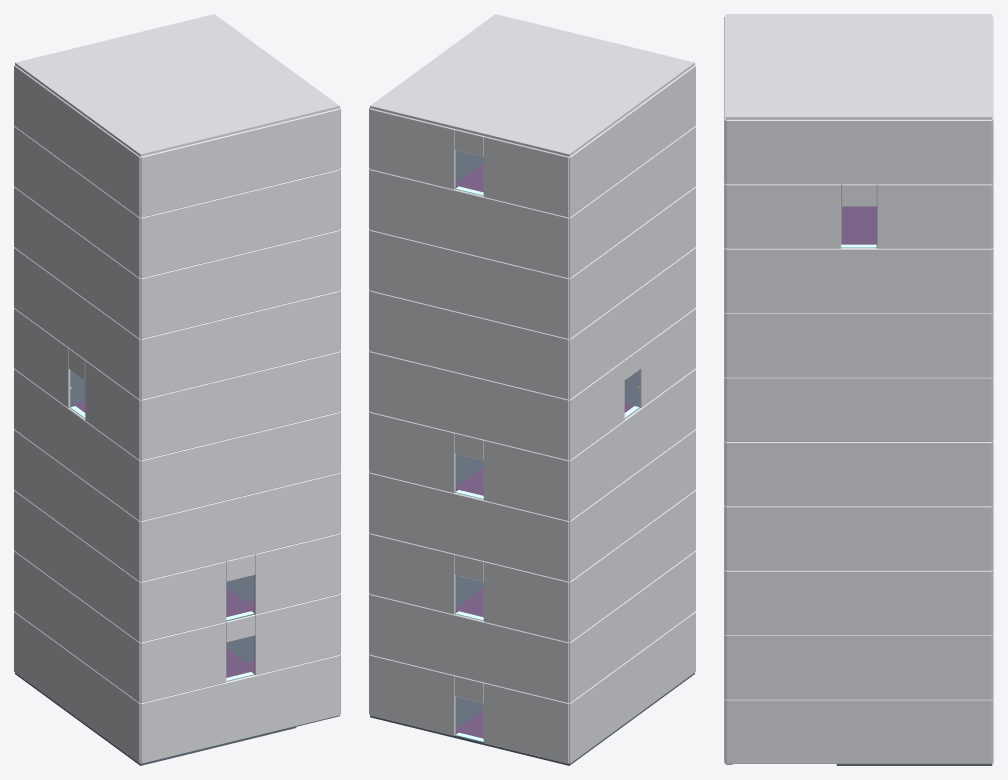
The model's file is stairwell-aft.glb.
3 views of the same model, side by side, from view 1: azimuth 30°, elevation 25°; view 2: azimuth 150°, elevation 25°; view 3: azimuth 270°, elevation 25° (orthographic). The views are drawn at different scales.
Parts seen in each view (by area): view 1: CM_BULKHEAD, CM_DECK, CM_CARPET; view 2: CM_BULKHEAD, CM_DECK, CM_CARPET; view 3: CM_BULKHEAD, CM_CARPET.
Part boxes in pixels (x1,y1,x2,y2): CM_BULKHEAD: [14, 14, 340, 763]; CM_DECK: [15, 217, 339, 765]; CM_CARPET: [72, 401, 254, 677]; CM_BULKHEAD: [369, 14, 695, 763]; CM_DECK: [370, 150, 694, 765]; CM_CARPET: [455, 163, 634, 738]; CM_BULKHEAD: [724, 14, 993, 763]; CM_CARPET: [841, 206, 876, 244].
Size of the model in its own units: 11.14 by 32.24 by 12.14.
